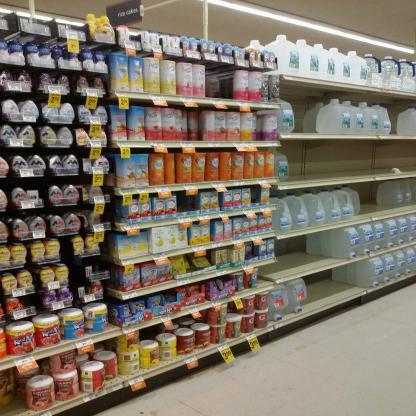Void: (296, 140, 397, 171), (274, 242, 312, 268), (297, 85, 313, 133), (209, 66, 232, 98), (306, 277, 340, 297), (1, 388, 22, 412), (361, 190, 379, 210), (69, 262, 84, 280), (180, 196, 196, 209), (253, 189, 258, 202)
